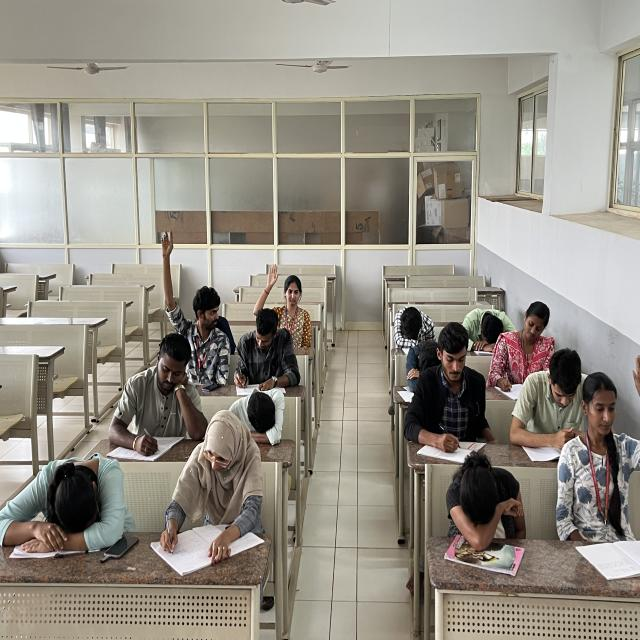Hand Rising: (154, 230, 233, 355), (251, 264, 318, 323)
Reading: (510, 352, 602, 458)
Sleeping: (2, 458, 127, 547), (440, 454, 532, 550), (462, 294, 512, 353), (401, 338, 447, 391), (393, 300, 435, 343)
Writing: (161, 412, 262, 559), (107, 334, 200, 458), (408, 324, 490, 454), (484, 305, 558, 395), (232, 306, 300, 395)
